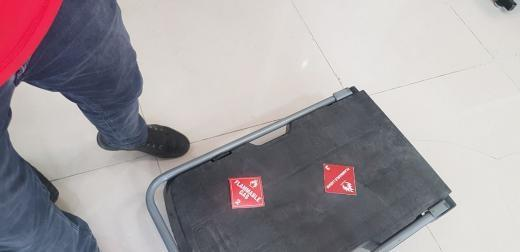flammable: (230, 176, 266, 208), (324, 163, 357, 195)
